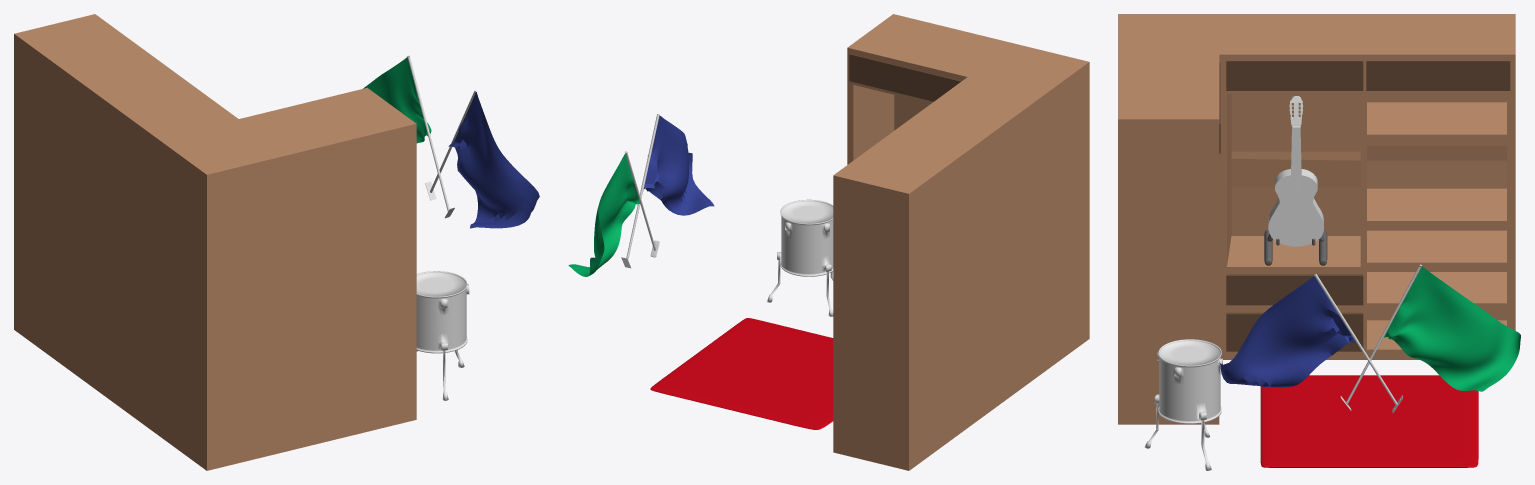
File: newshelf.fbx
3 views of the same model, side by side, from view 1: azimuth 30°, elevation 25°; view 2: azimuth 150°, elevation 25°; view 3: azimuth 270°, elevation 25° (orthographic). The views are drawn at different scales.
Visible parts, largest first — view 1: Cube, flag1, Cylinder, flag1cloth.001; view 2: Cube, Plane, flag1, Cylinder, flag1cloth.001, Cube.009; view 3: Cube, Plane, flag1cloth.001, flag1, Cylinder, Cube.008, Cube.002, Cube.007, Cube.005, Cube.006, Cube.001.
Boxes of the visible parts, box(x1,y1,x2,y2) form: Cube: box(14, 14, 416, 470); flag1: box(425, 89, 539, 228); Cylinder: box(416, 271, 469, 400); flag1cloth.001: box(363, 55, 454, 218); Cube: box(833, 14, 1089, 470); Plane: box(650, 318, 833, 429); flag1: box(621, 114, 714, 268); Cylinder: box(767, 199, 833, 316); flag1cloth.001: box(568, 151, 659, 276); Cube.009: box(849, 54, 961, 101); Cube: box(1118, 14, 1515, 424); Plane: box(1260, 375, 1478, 467); flag1cloth.001: box(1340, 264, 1520, 410); flag1: box(1219, 274, 1402, 412); Cylinder: box(1144, 339, 1222, 470); Cube.008: box(1366, 61, 1510, 90); Cube.002: box(1268, 96, 1323, 246); Cube.007: box(1226, 61, 1363, 90); Cube.005: box(1226, 274, 1363, 305); Cube.006: box(1226, 312, 1363, 351); Cube.001: box(1264, 230, 1327, 265).
Size of the model in its own units: 258 by 190 by 227.
